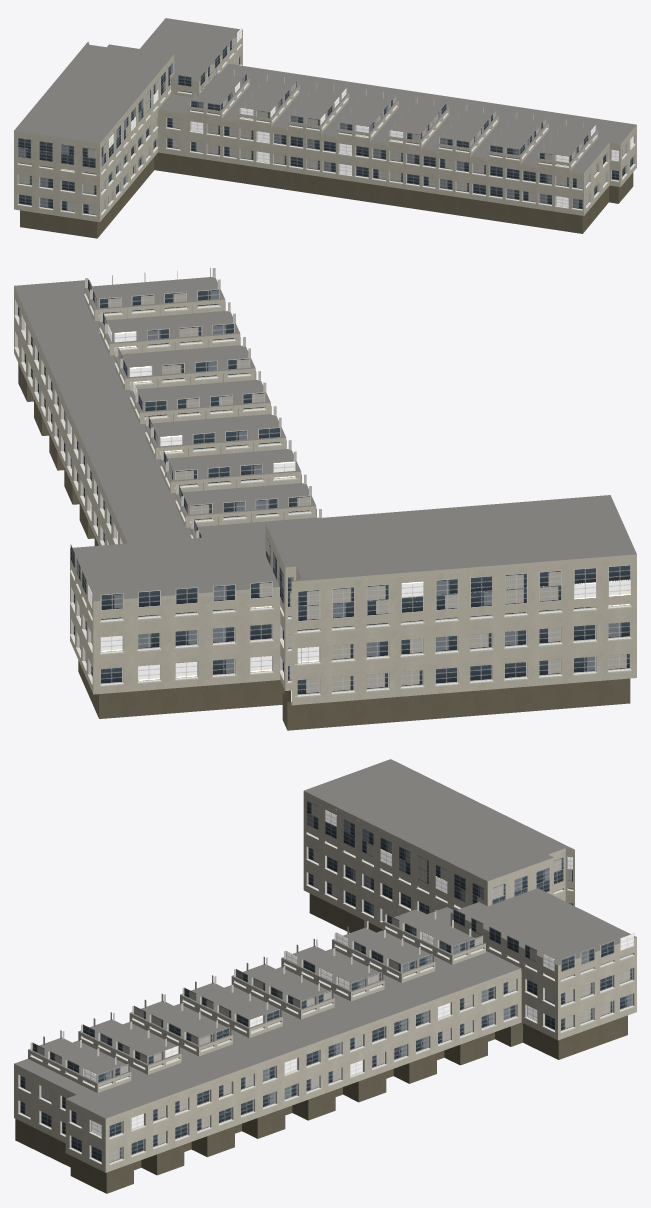
File: z4L_zurl_hall.glb
3 views of the same model, one above another, from view 1: azimuth 30°, elevation 25°; view 2: azimuth 150°, elevation 25°; view 3: azimuth 270°, elevation 25° (orthographic). The views are drawn at different scales.
Parts seen in each view (by area): view 1: z4L_zurl_hall; view 2: z4L_zurl_hall; view 3: z4L_zurl_hall.
Boxes of the visible parts, x1=… form: z4L_zurl_hall: x1=14, y1=18, x2=636, y2=238; z4L_zurl_hall: x1=14, y1=267, x2=636, y2=730; z4L_zurl_hall: x1=14, y1=759, x2=636, y2=1193.
Size of the model in its own units: 88.1 by 16.01 by 73.8.
Materials: 3 (3 with a texture image).
